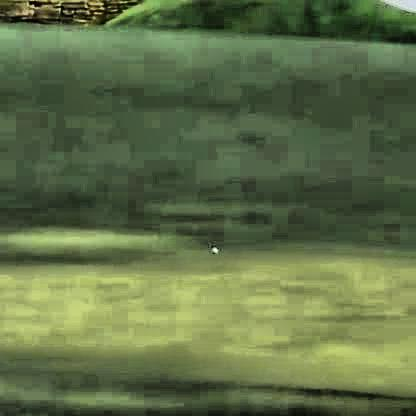golfball: (208, 241, 215, 251)
